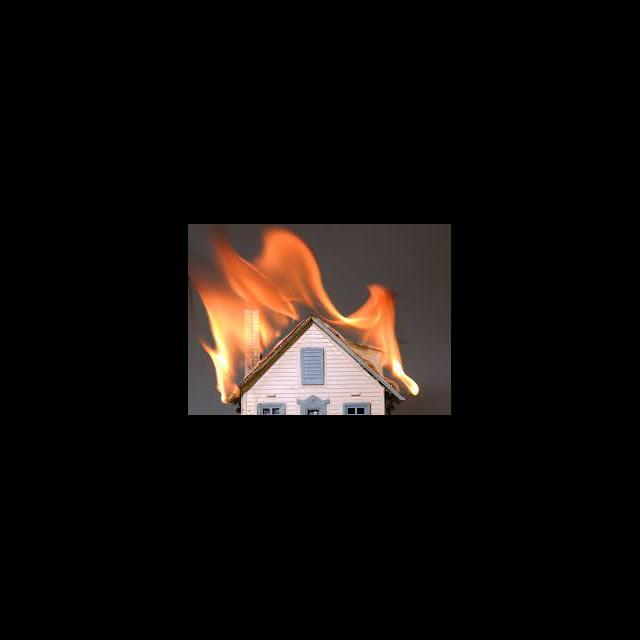Fire: (190, 226, 426, 407)
